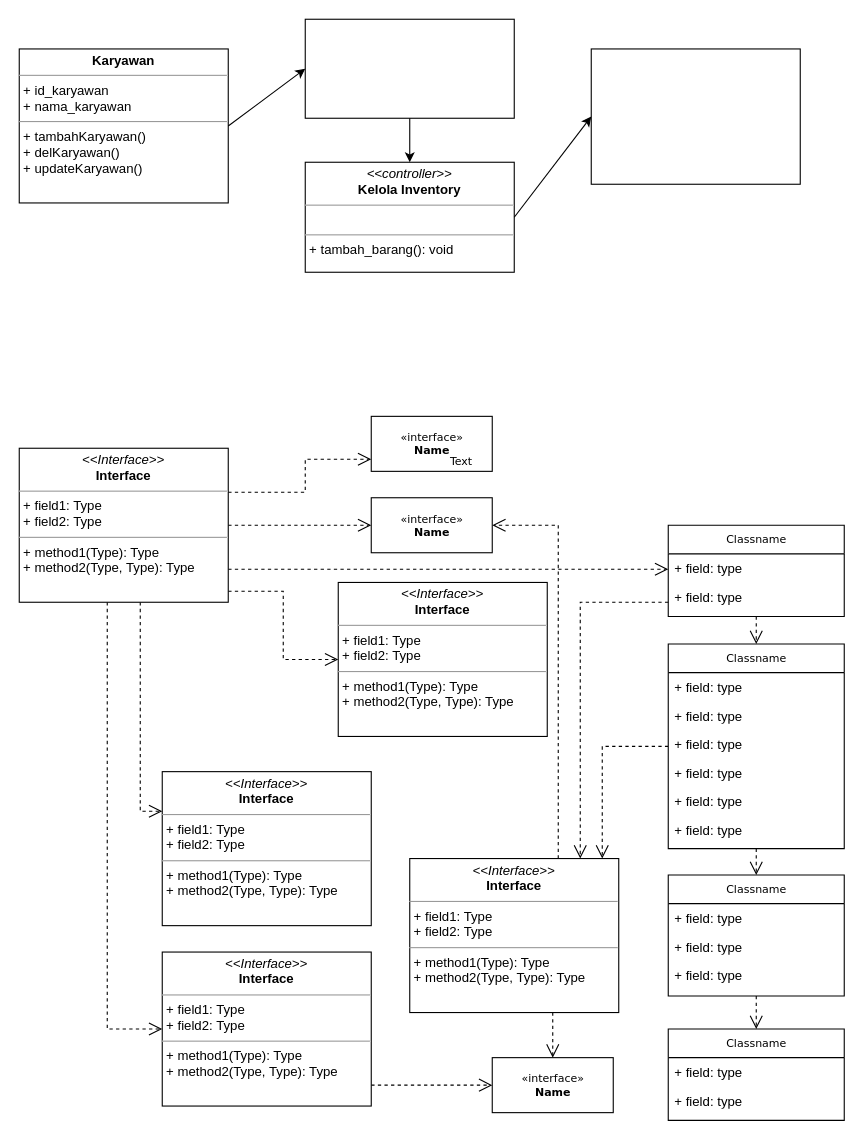
This 864x1140 diagram has some shape labels left out. The shapes that lost their labels are listed below. From the top down, each one's centre as x and y in pixels, then its label:
At (x=409, y=68): "<<boundary>> Dashboard".
At (x=695, y=116): "<<entity>> Barang +id_barang() +nama_barang() +jml_stok() +simpan_barang(): void".
